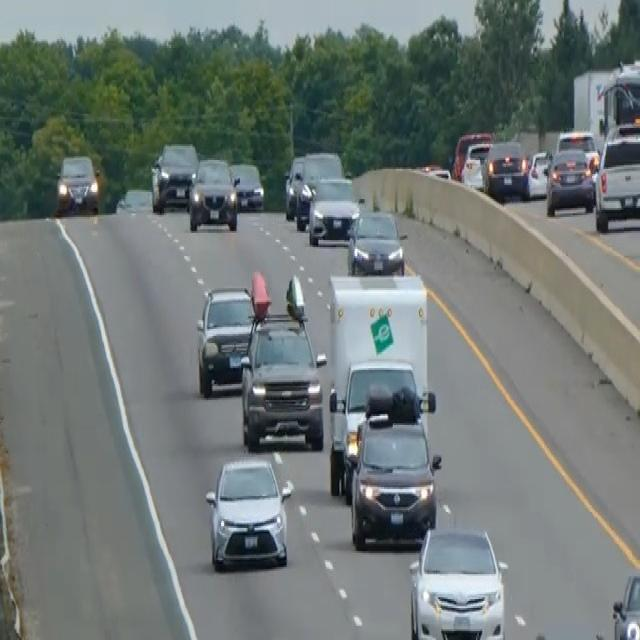car: (348, 384, 441, 549), (407, 522, 507, 636), (204, 453, 292, 571), (195, 283, 256, 397), (594, 121, 639, 231), (346, 206, 405, 276), (294, 150, 343, 230), (307, 174, 361, 246), (187, 155, 238, 231), (545, 144, 595, 217), (150, 138, 198, 212), (594, 571, 639, 638), (55, 151, 99, 215), (484, 137, 528, 199), (556, 128, 600, 172), (229, 158, 264, 212), (522, 148, 552, 199), (461, 139, 491, 190), (283, 153, 305, 219)
jeep: (238, 270, 327, 452)
truck: (325, 268, 431, 498)
